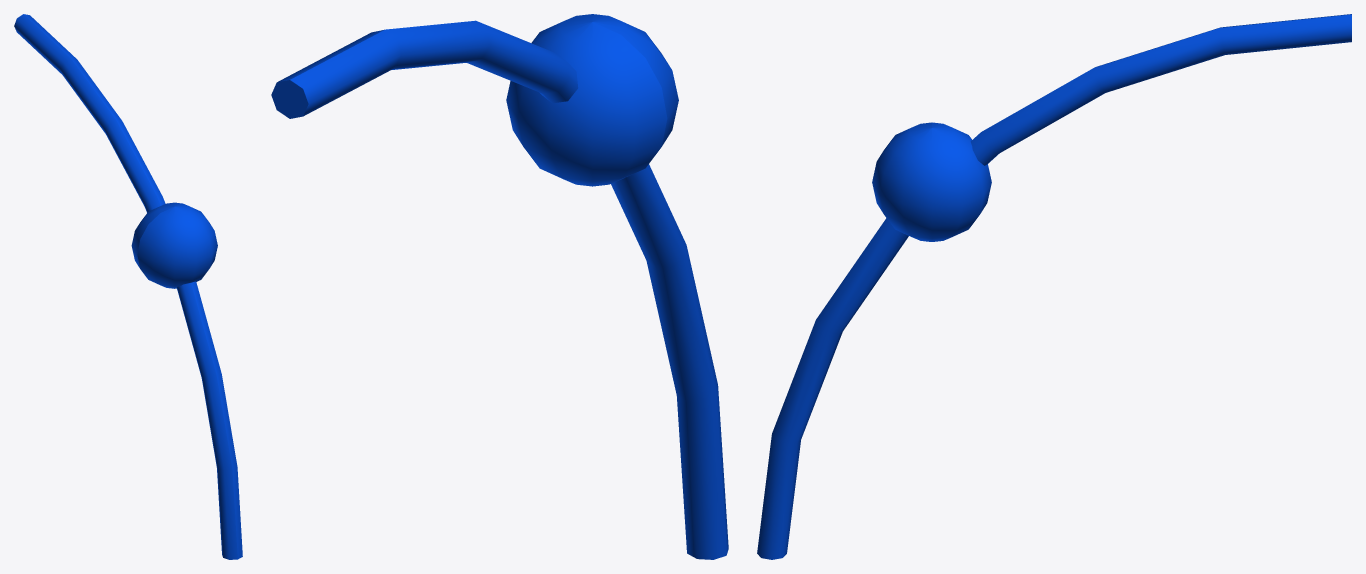
File: rotation_blue_merged.glb
3 views of the same model, side by side, from view 1: azimuth 30°, elevation 25°; view 2: azimuth 150°, elevation 25°; view 3: azimuth 270°, elevation 25° (orthographic). The views are drawn at different scales.
Parts seen in each view (by area): view 1: ySphere; view 2: ySphere; view 3: ySphere.
Boxes of the visible parts, x1,y1,x2,y2 form: ySphere: [14, 14, 242, 559]; ySphere: [271, 14, 728, 559]; ySphere: [757, 14, 1351, 559].
Size of the model in its own units: 0.2 by 0.9931 by 0.9931.
